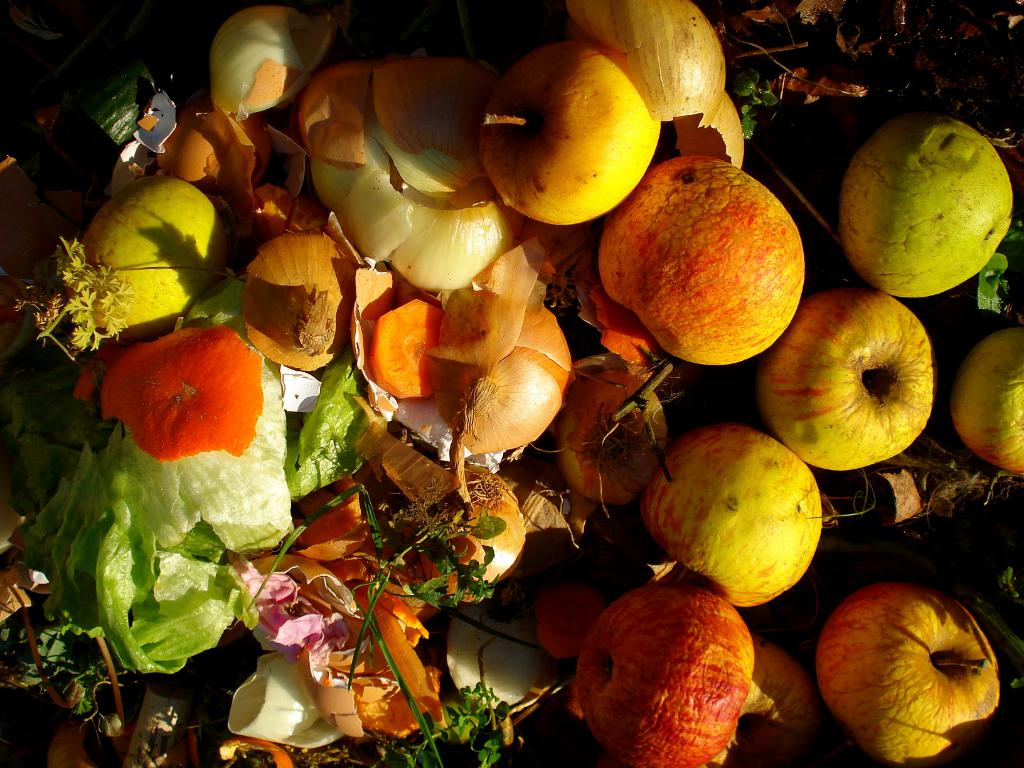Apple: (596, 156, 807, 366), (808, 579, 1009, 764), (641, 421, 824, 611), (571, 584, 755, 767), (476, 44, 659, 226), (835, 113, 1014, 298), (755, 286, 933, 471), (80, 174, 236, 345), (709, 638, 817, 767), (952, 325, 1023, 471)
